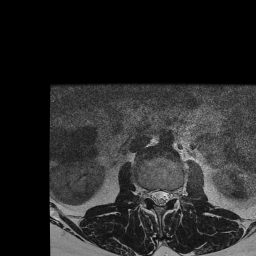CCS_normal: (157, 182, 164, 211)
LFS_normal: (170, 182, 177, 205)
LLS_normal: (164, 182, 170, 208)
RFS_normal: (142, 182, 149, 205)
RLS_normal: (149, 183, 157, 206)
